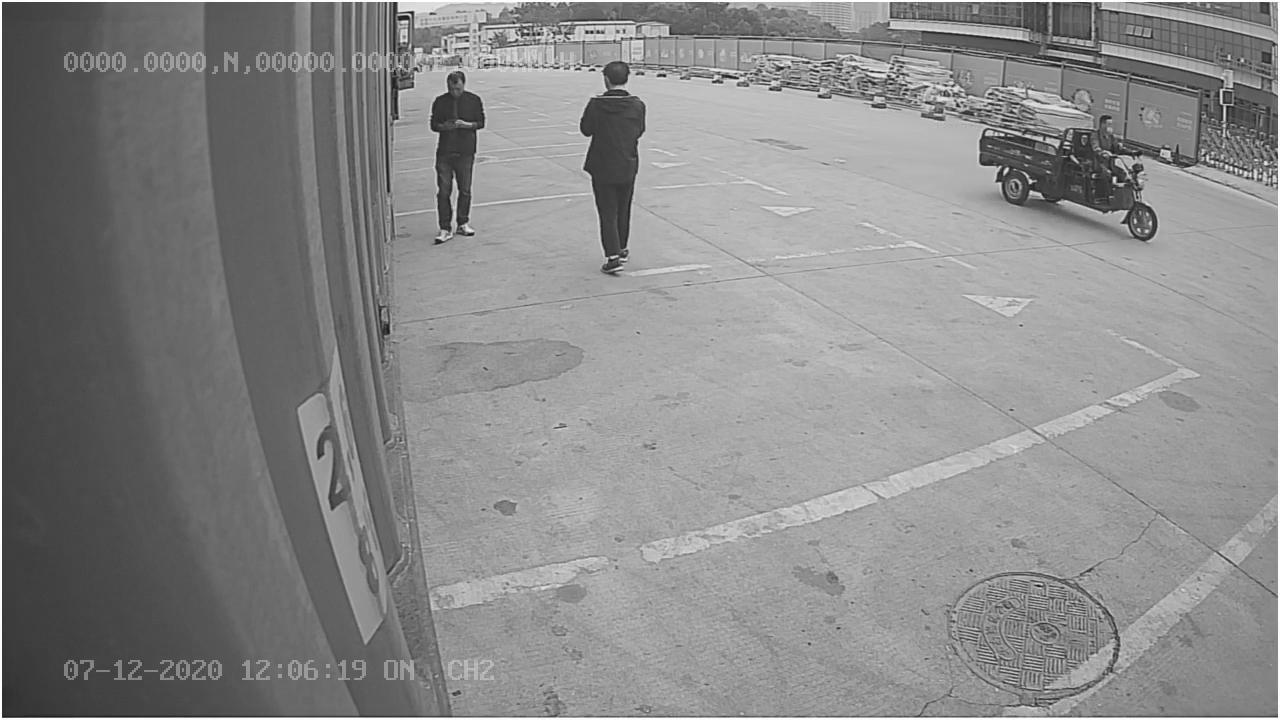person: (575, 61, 647, 273)
